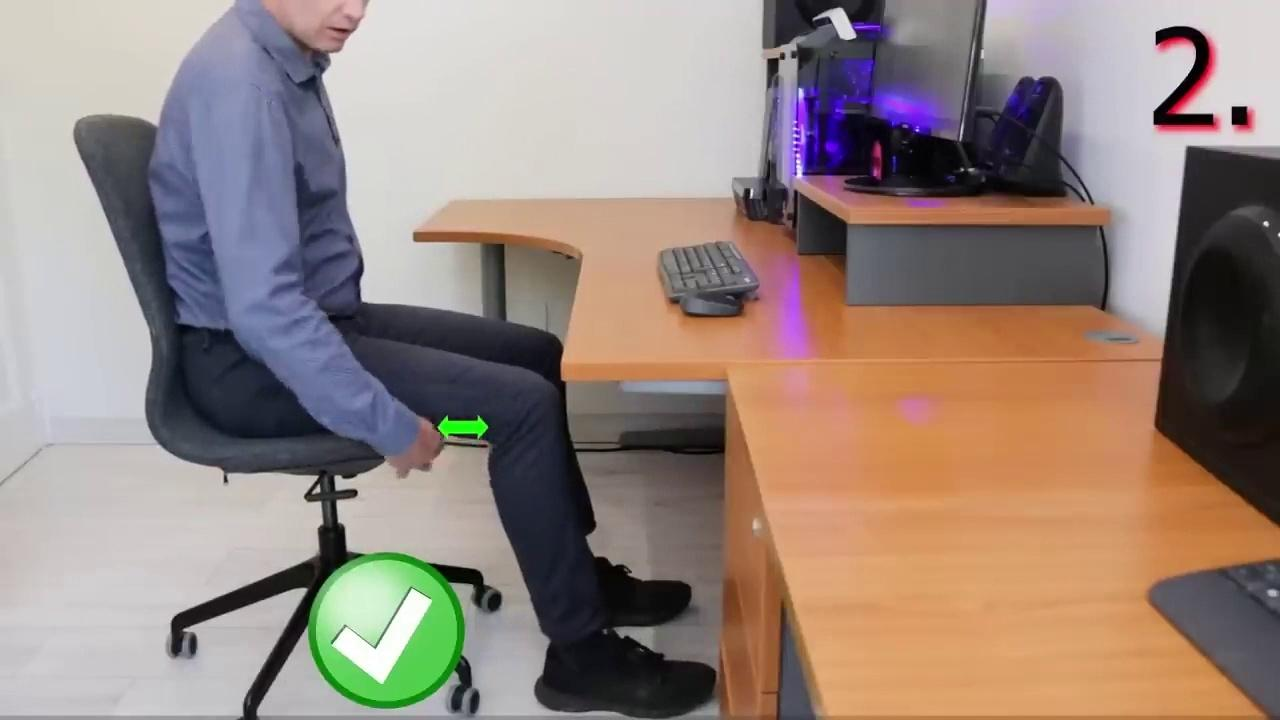GoodPosture: (307, 303, 691, 641)
